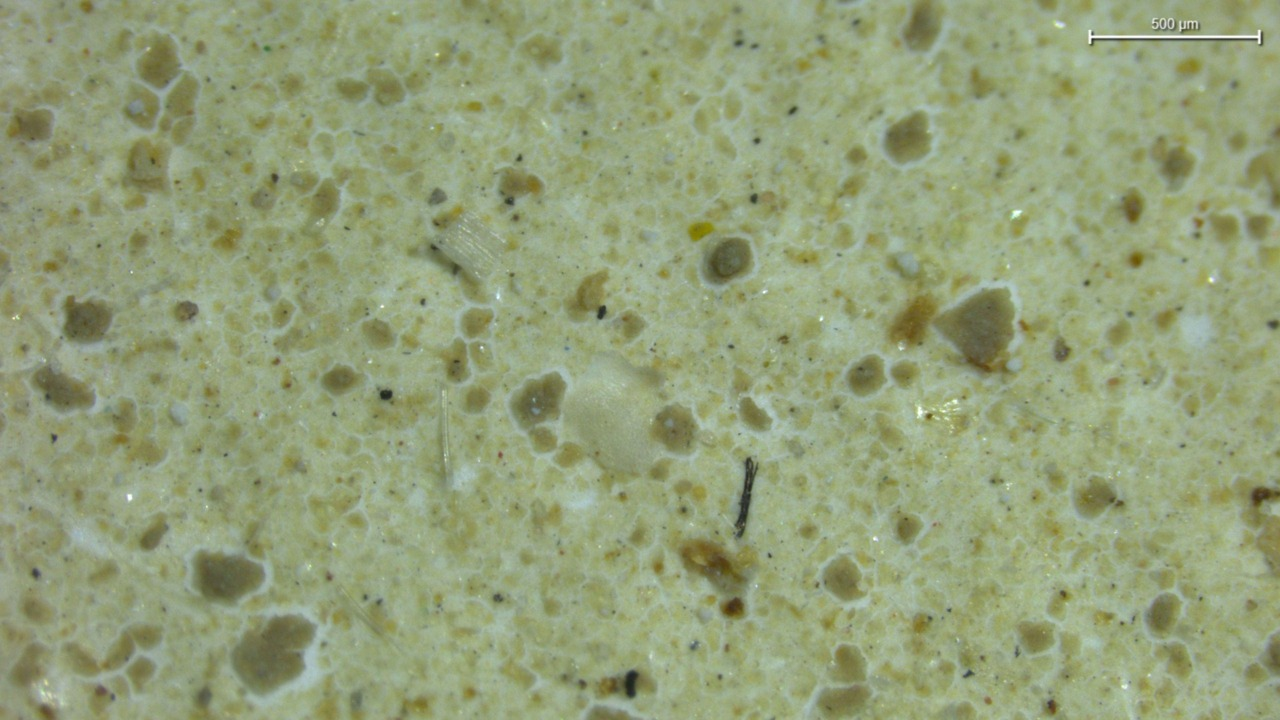microplastic_fragment: (434, 213, 504, 280)
